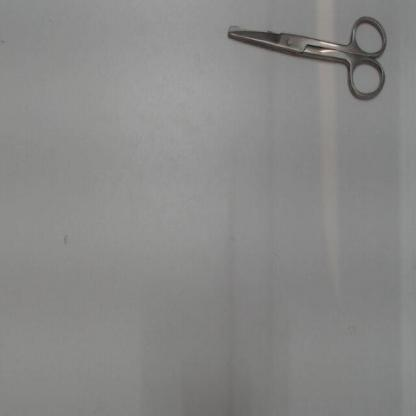Dressing Scissors: (222, 9, 393, 108)
